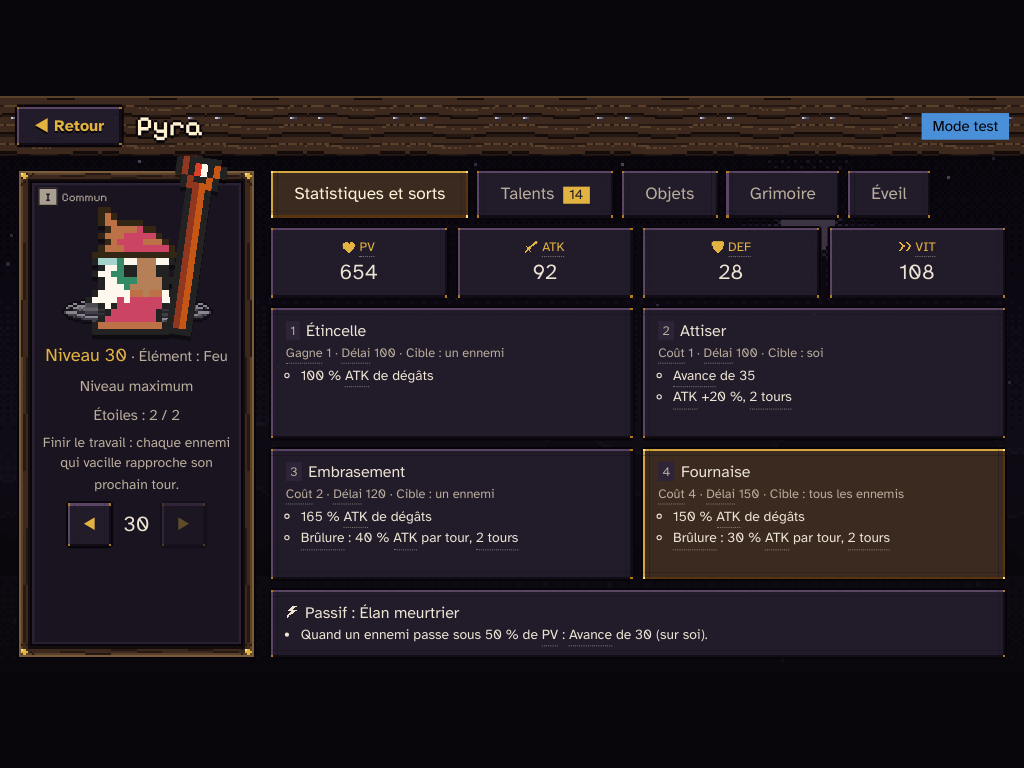
Test: liens de l’arbre des talents › le choix exclusif est signalé par « ou » sous les deux nœuds rivaux
This screenshot has width=1024, height=768.
Click the tab "Talents14" at (545, 194), box [475,168,615,220]
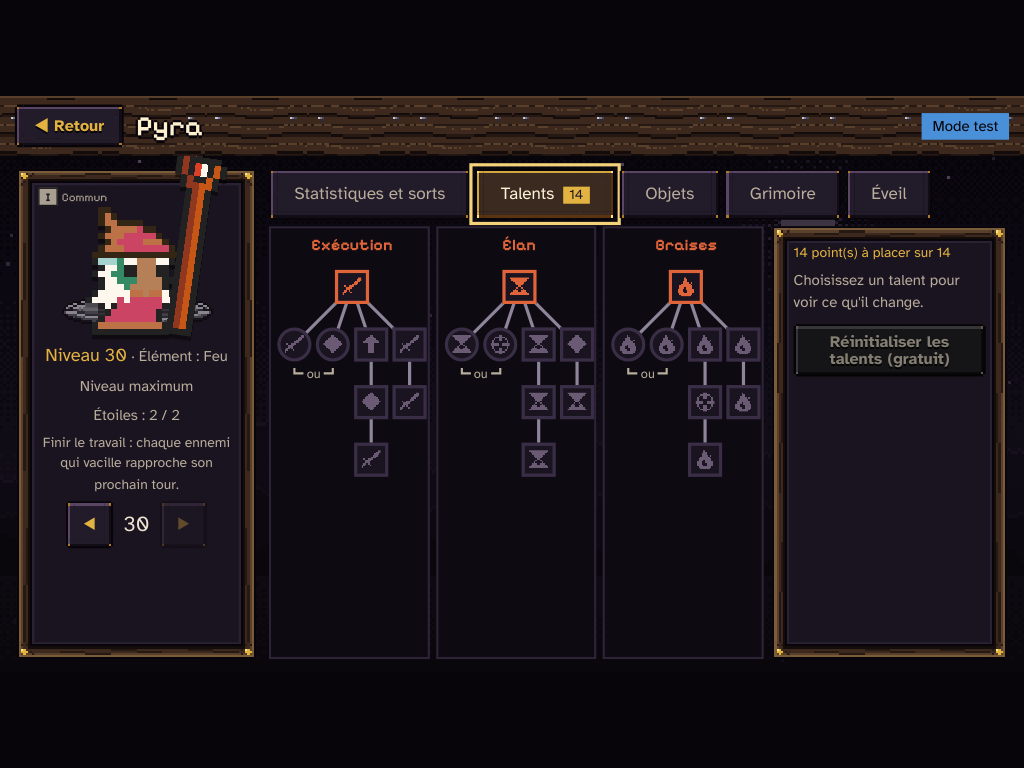
Expected: the text "ou" is shown once, [303,363,324,382]
